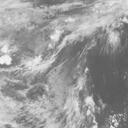cyclone: (28, 60, 80, 113)
